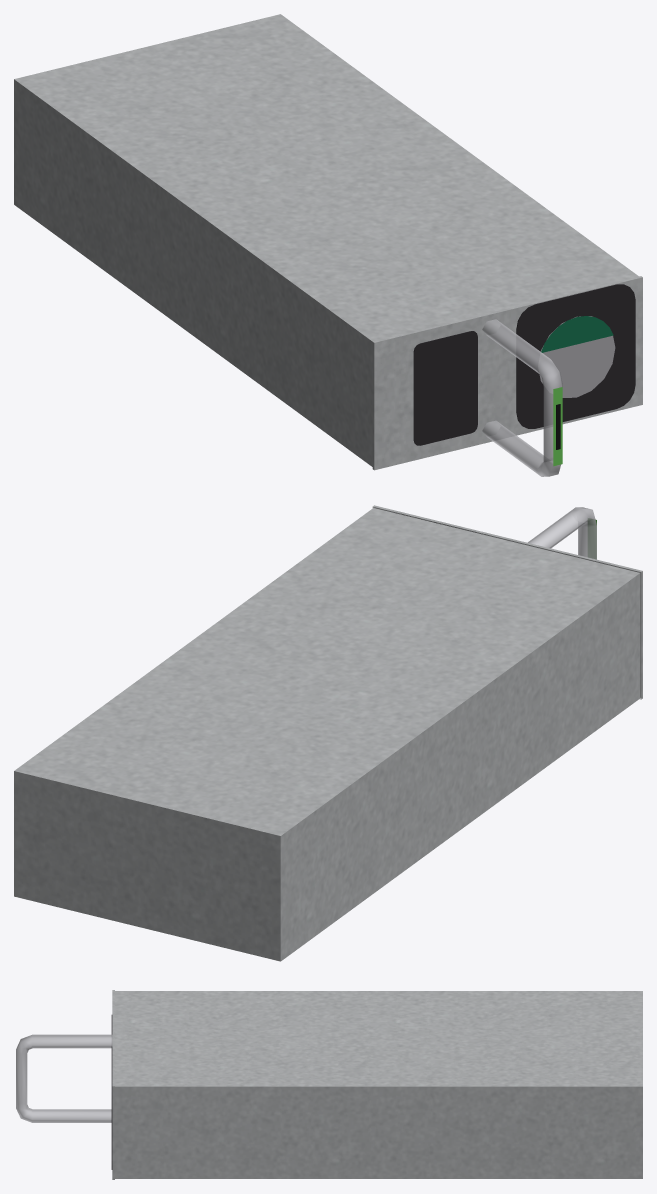
Rendered from DELL-PSU-14G-86MM-1100W.far.glb.
The picture shows the model from 3 angles, top to bottom: view 1: azimuth 30°, elevation 25°; view 2: azimuth 150°, elevation 25°; view 3: azimuth 270°, elevation 25°; orthographic projection. The views are drawn at different scales.
Visible parts, largest first — view 1: PSU_far; view 2: PSU_far; view 3: PSU_far.
Boxes of the visible parts, <box> form: PSU_far: <box>14,14,642,476</box>; PSU_far: <box>14,505,642,961</box>; PSU_far: <box>16,990,642,1179</box>.
Bounding box in the file's own units: 0.086 × 0.039 × 0.2374.
Materials: 4 (2 with a texture image).
